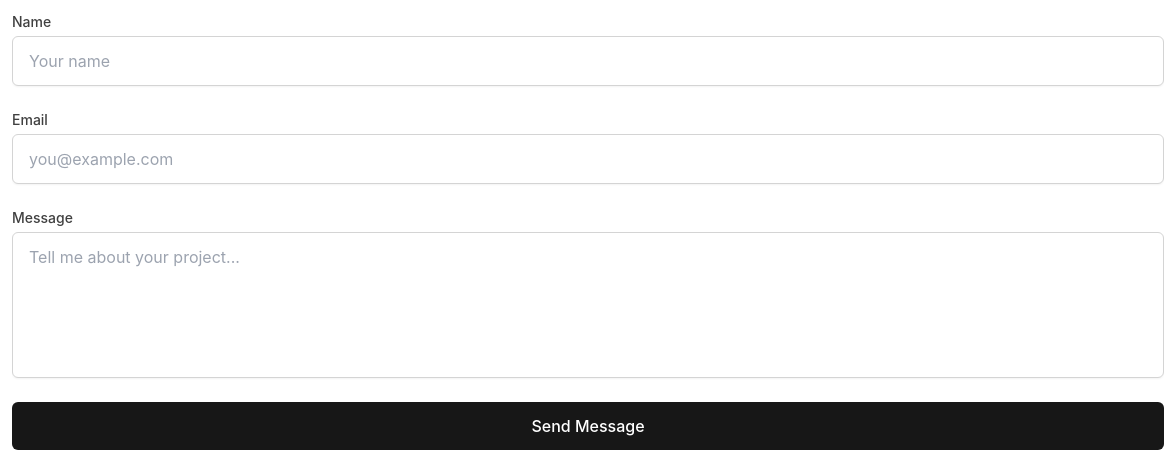
Test: ContactForm › shows loading state during submission
The image size is (1176, 467).
Type "John Doe" into the field labelled "Name". click: (588, 61)
box: 12,36 -> 1164,86
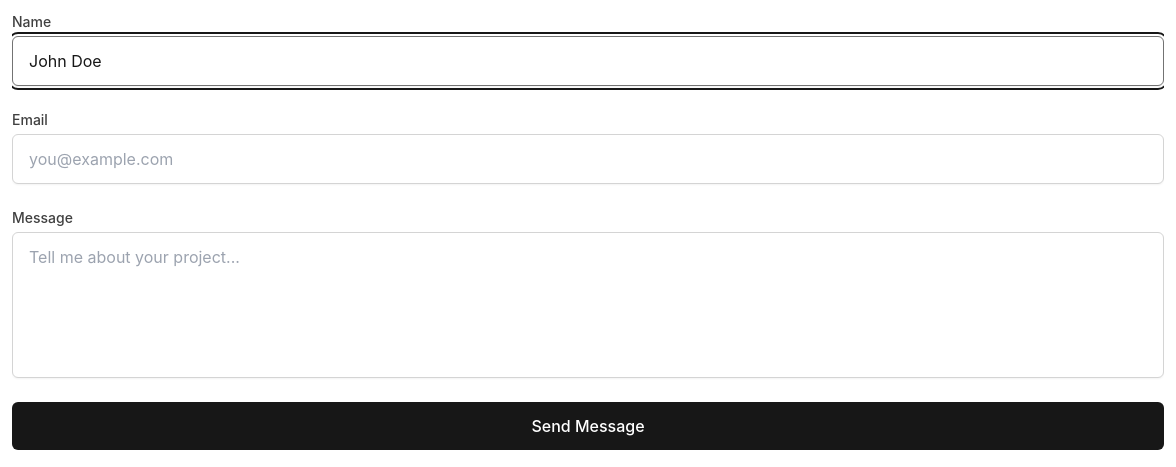
Type "john@example.com" into the field labelled "Email". click: (588, 159)
box: 12,134 -> 1164,184
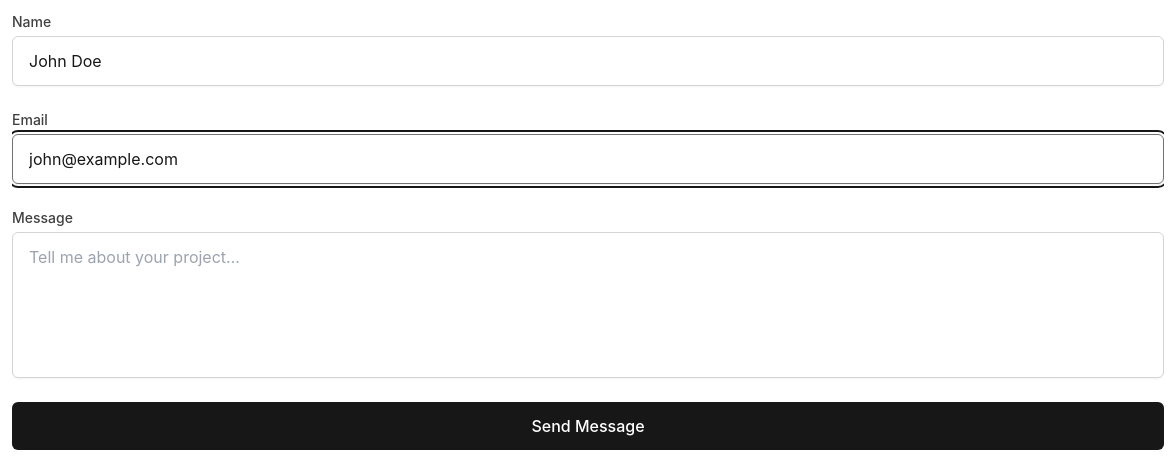
Type "Hello, this is a test message." into the text box labelled "Message". click: (588, 305)
box: 12,232 -> 1164,378
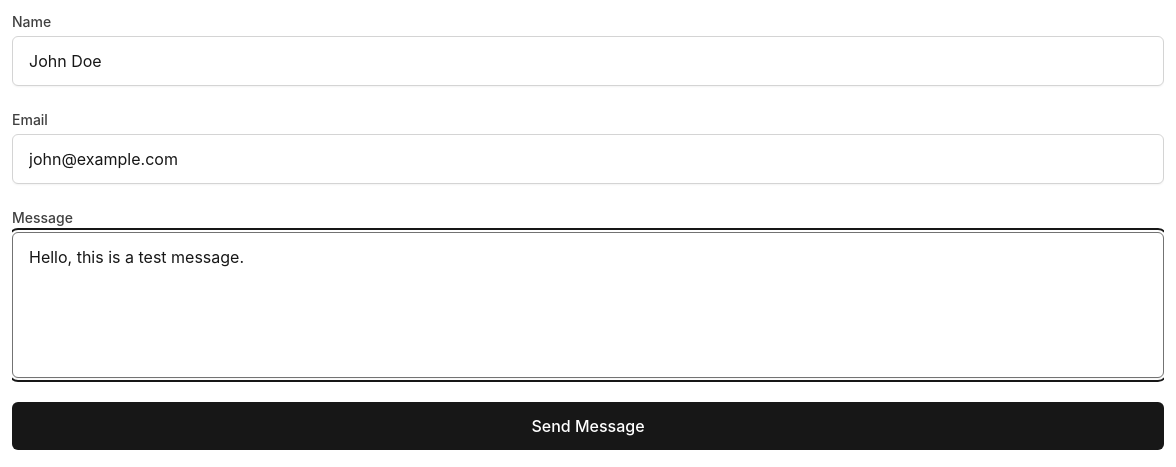
Click the button "Send Message". click: (588, 426)
box: 12,402 -> 1164,450
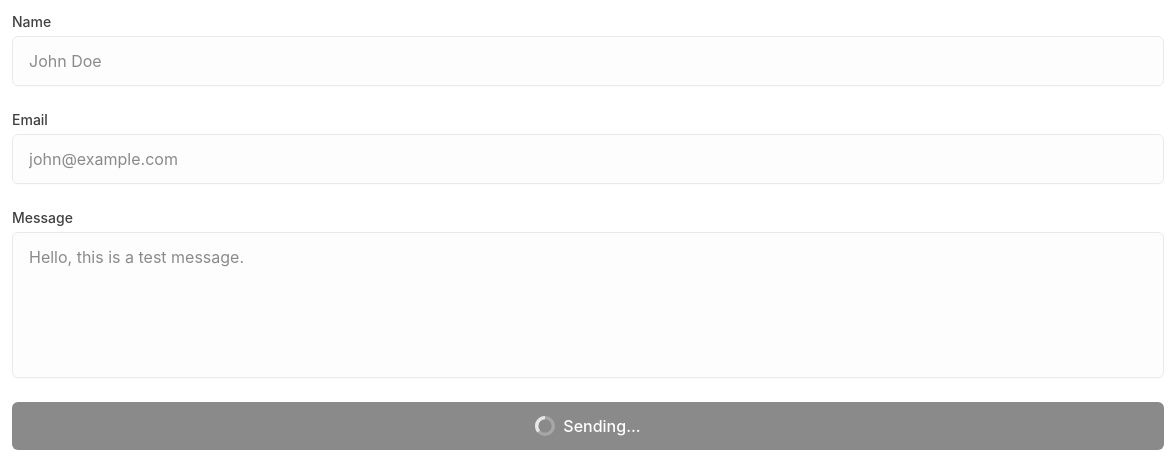
Expected: the text "Sending..." is shown, 535,416 -> 641,436
Expected: the button is disabled, 12,402 -> 1164,450
